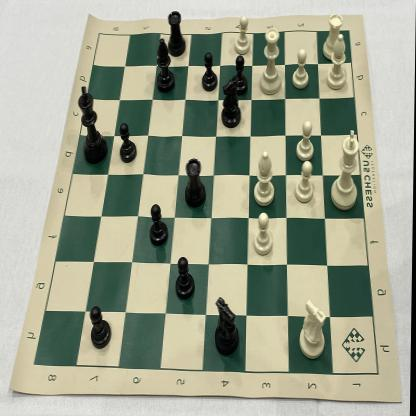black-bishop: (155, 34, 177, 96)
black-king: (75, 82, 110, 166)
black-knight: (212, 288, 245, 358), (217, 74, 248, 130)
black-pawn: (173, 252, 200, 302), (88, 301, 114, 352), (147, 199, 172, 250), (198, 50, 221, 94), (230, 52, 252, 96), (118, 119, 139, 165)
black-rook: (182, 154, 209, 210), (165, 6, 191, 60)
white-bishop: (251, 146, 282, 210), (324, 29, 351, 93)
white-king: (327, 124, 365, 216)
white-knight: (295, 292, 333, 366)
white-pawn: (292, 156, 320, 208), (251, 209, 276, 261), (289, 42, 314, 92), (294, 116, 318, 168), (232, 12, 253, 60)
white-queen: (256, 22, 287, 100)
white-rook: (320, 8, 346, 63)
